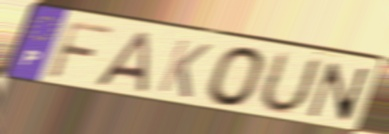A: (92, 30, 153, 95)
F: (44, 18, 116, 82)
K: (154, 37, 215, 101)
N: (305, 60, 372, 125)
O: (204, 45, 269, 109)
U: (254, 49, 325, 116)
